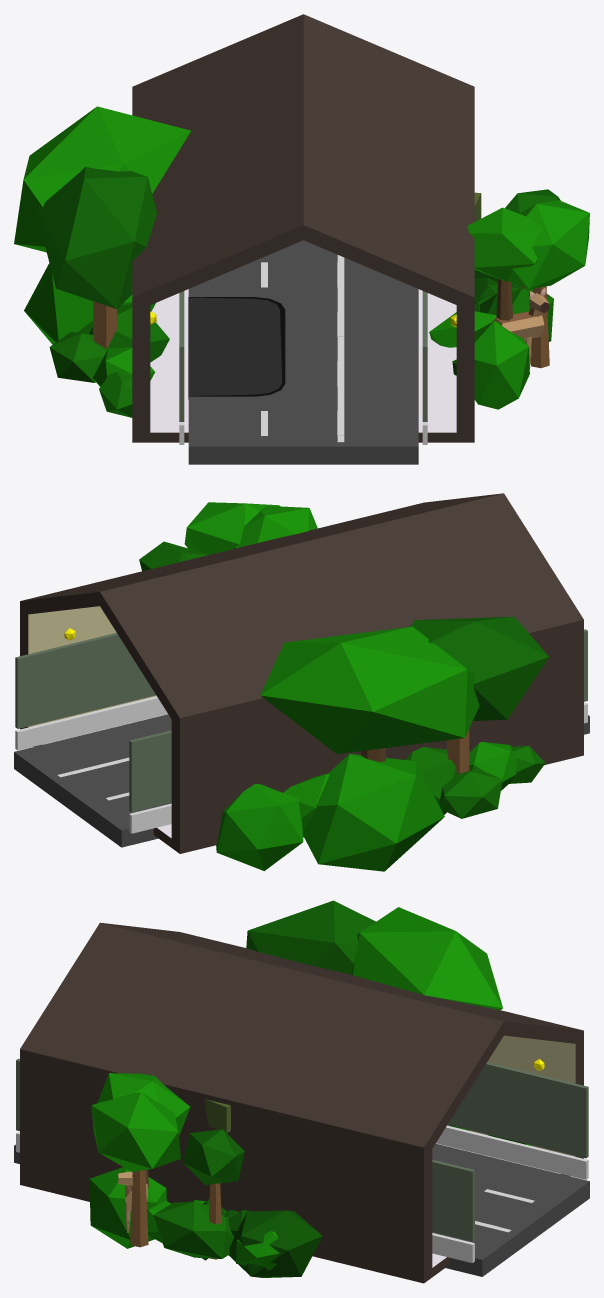
The model's file is highway_03_5.fbx.
3 views of the same model, one above another, from view 1: azimuth 30°, elevation 25°; view 2: azimuth 150°, elevation 25°; view 3: azimuth 270°, elevation 25° (orthographic). The views are drawn at different scales.
Parts seen in each view (by area): view 1: tunnel, highway03.001, highway03, tree2, tree, pavementPatch, treeCrown2, bush12, treeCrown5, bush9, bushSmall4, soundAndSightSafer (+10 smaller); view 2: tunnel, tree, soundAndSightSafer, bush9, tree2, highway03, bush10, leitPlanks, treeCrown2, highway03.001, bushSmall4, treeCrown5 (+5 smaller); view 3: tunnel, soundAndSightSafer, tree, highway03, tree2, treeCrown2, bush11, leitPlanks.001, bush3, bush12, treeCrown6, highway03.001 (+6 smaller).
Boxes of the visible parts, x1,y1,x2,y2 form: tunnel: (132,14,474,442); highway03.001: (188,275,418,464); highway03: (188,240,418,464); tree2: (36,166,156,349); tree: (14,106,190,252); pavementPatch: (188,297,285,399); treeCrown2: (508,200,589,289); bush12: (474,321,529,409); treeCrown5: (467,207,542,281); bush9: (24,263,155,344); bushSmall4: (49,331,107,382); soundAndSightSafer: (179,291,427,421); tunnel: (20,493,583,853); tree: (260,626,479,761); soundAndSightSafer: (15,629,587,812); bush9: (302,754,444,871); tree2: (410,616,548,774); highway03: (14,715,589,842); bush10: (216,783,303,870); leitPlanks: (15,696,587,833); treeCrown2: (184,502,279,554); highway03.001: (14,714,589,847); bushSmall4: (439,768,502,818); treeCrown5: (234,505,317,548); tunnel: (20,922,583,1283); soundAndSightSafer: (16,1058,588,1241); tree: (351,907,502,1010); highway03: (14,1143,589,1276); tree2: (246,900,378,974); treeCrown2: (91,1092,180,1171); bush11: (228,1210,322,1277); leitPlanks.001: (16,1127,588,1262); bush3: (153,1201,233,1258); bush12: (89,1167,166,1248); treeCrown6: (183,1129,244,1184); highway03.001: (14,1144,589,1276).
Size of the model in its own units: 95.95 by 48.71 by 105.
